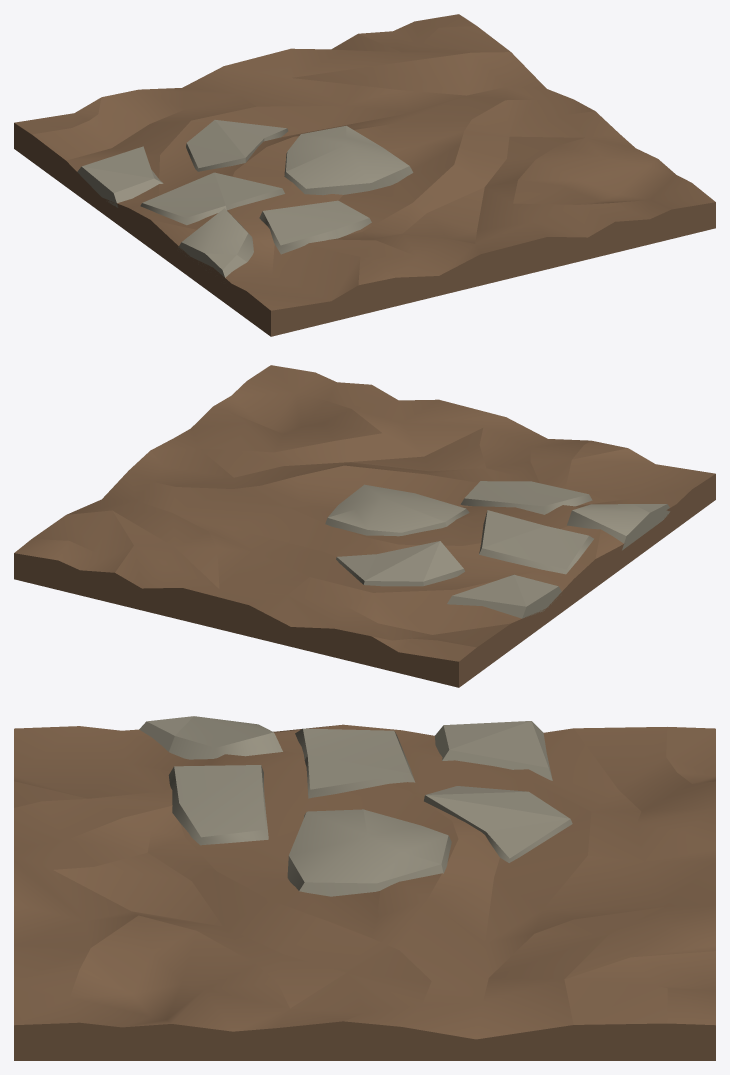
The model's file is Ground_Stone_Path_Ending_R.glb.
The picture shows the model from 3 angles, top to bottom: view 1: azimuth 30°, elevation 25°; view 2: azimuth 150°, elevation 25°; view 3: azimuth 270°, elevation 25°; orthographic projection. The views are drawn at different scales.
Visible parts, largest first — view 1: Ground_Stone_Path_Ending_R; view 2: Ground_Stone_Path_Ending_R; view 3: Ground_Stone_Path_Ending_R.
Boxes of the visible parts, x1,y1,x2,y2 form: Ground_Stone_Path_Ending_R: (14,14,715,336); Ground_Stone_Path_Ending_R: (14,365,715,687); Ground_Stone_Path_Ending_R: (14,716,715,1060).
Size of the model in its own units: 1.47 by 0.1489 by 1.47.
